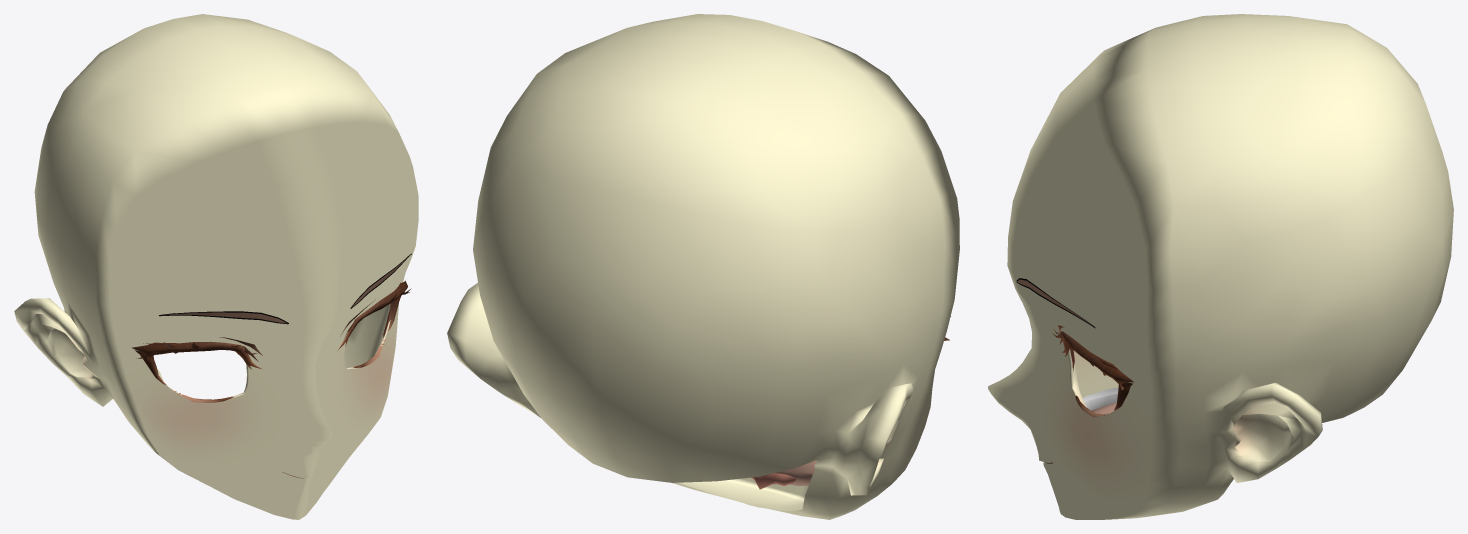
The model's file is 03_misaki_head.fbx.
The picture shows the model from 3 angles, left to right: view 1: azimuth 30°, elevation 25°; view 2: azimuth 150°, elevation 25°; view 3: azimuth 270°, elevation 25°; orthographic projection. The views are drawn at different scales.
Visible parts, largest first — view 1: head_Def; view 2: head_Def; view 3: head_Def.
Boxes of the visible parts, box(x1,y1,x2,y2) form: head_Def: box(14, 14, 418, 519); head_Def: box(447, 14, 959, 519); head_Def: box(988, 14, 1453, 519).
Bounding box in the file's own units: 17.01 × 19.53 × 17.24.
